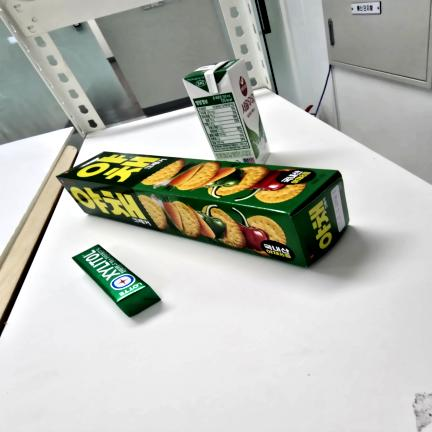cracker_vege: (57, 152, 349, 267)
gum_green: (73, 245, 160, 317)
milk_green: (183, 59, 269, 164)
